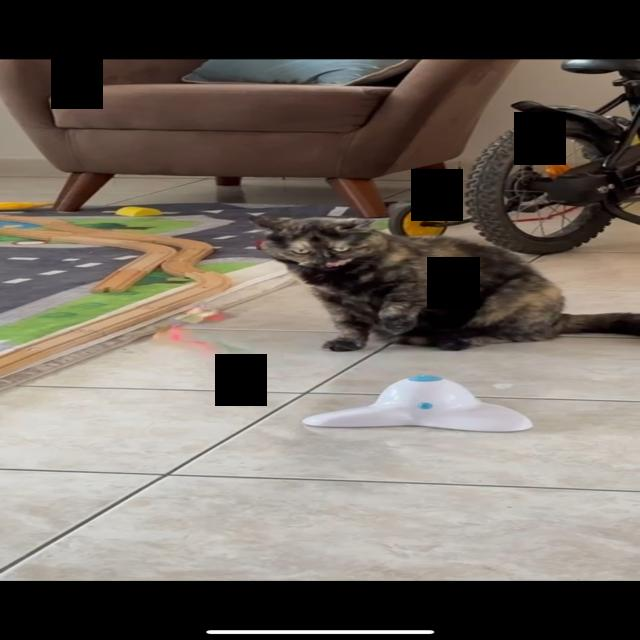authorized: (246, 213, 638, 352)
